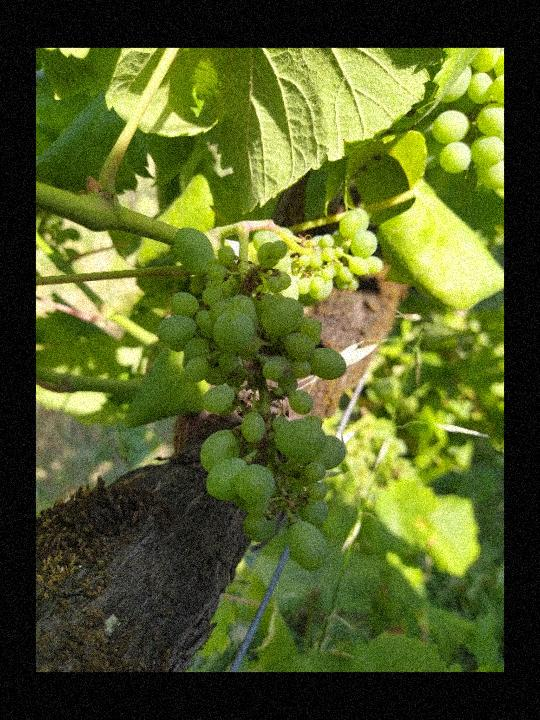grape: (149, 214, 354, 572), (297, 206, 387, 302)
